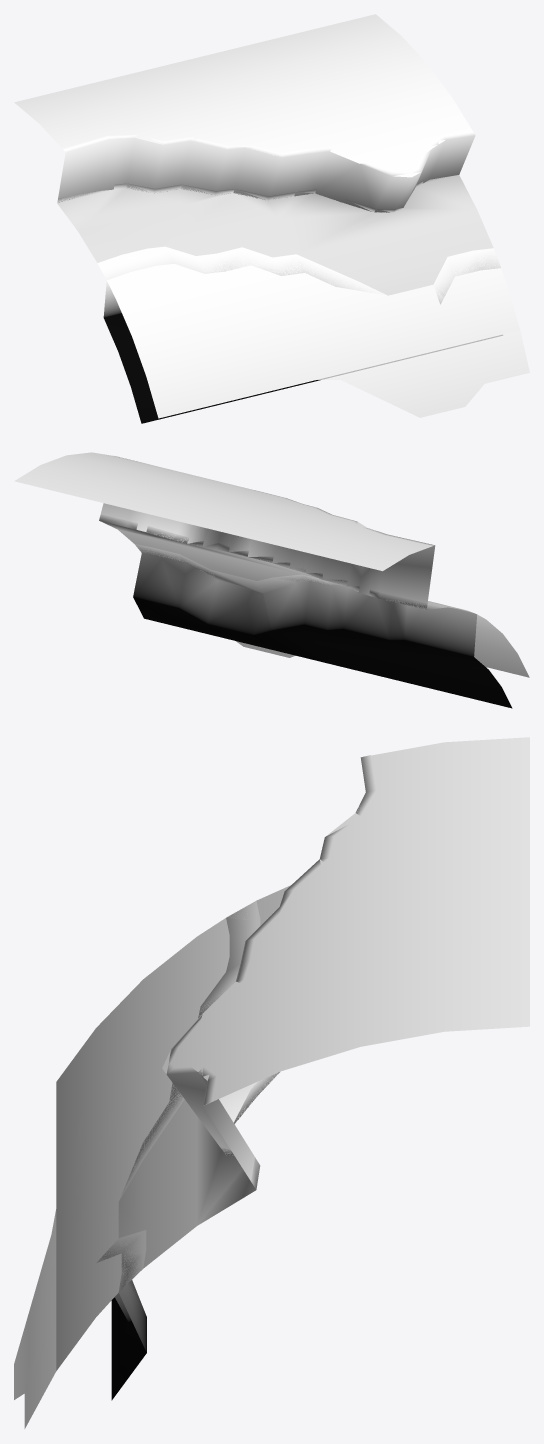
File: grd_Msw_s_1.dae
3 views of the same model, one above another, from view 1: azimuth 30°, elevation 25°; view 2: azimuth 150°, elevation 25°; view 3: azimuth 270°, elevation 25° (orthographic). The views are drawn at different scales.
Parts seen in each view (by area): view 1: grd_Msw_s_1; view 2: grd_Msw_s_1; view 3: grd_Msw_s_1.
Part boxes in pixels (x1,y1,x2,y2): grd_Msw_s_1: (14, 14, 529, 423); grd_Msw_s_1: (14, 452, 529, 708); grd_Msw_s_1: (14, 737, 529, 1428).
Size of the model in its own units: 512 by 353 by 386.
Materials: 6 (1 with a texture image).
